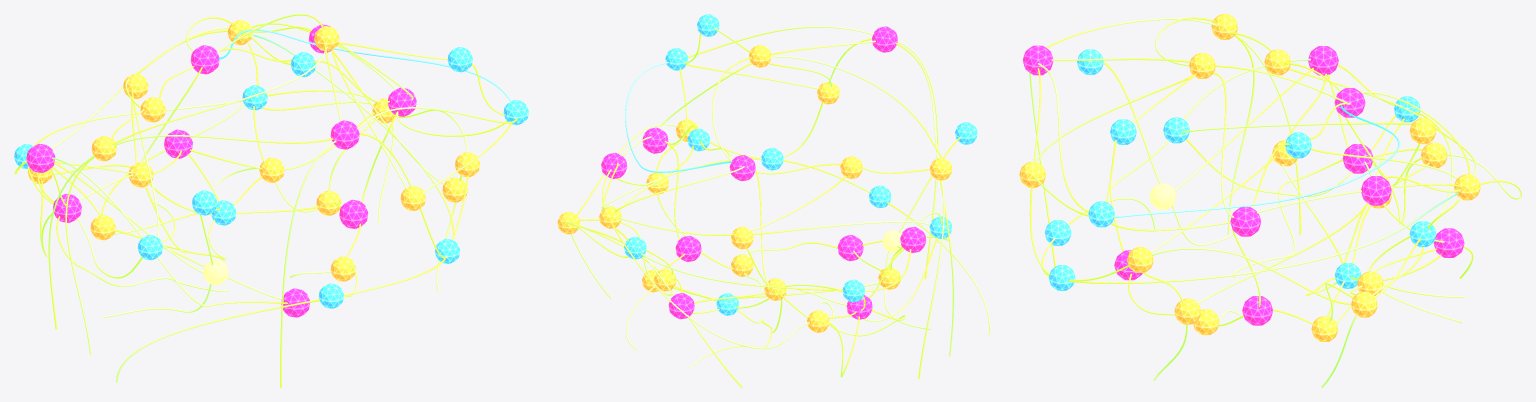
Rendered from neuro_web.fbx.
3 renders of one model, left to right at view 1: azimuth 30°, elevation 25°; view 2: azimuth 150°, elevation 25°; view 3: azimuth 270°, elevation 25°, orthographic. The views are drawn at different scales.
Parts seen in each view (by area): view 1: BézierCurve.035, BézierCurve.033, BézierCurve.032, BézierCurve.034, BézierCurve.063, BézierCurve.061, BézierCurve.051, Icosphere.046, Icosphere.047, Icosphere.013, Icosphere.045, Icosphere.044 (+29 smaller); view 2: BézierCurve.035, BézierCurve.033, BézierCurve.032, BézierCurve.034, BézierCurve.063, BézierCurve.051, BézierCurve.061, Icosphere.046, Icosphere.013, Icosphere.047, Icosphere.015, Icosphere.002 (+27 smaller); view 3: BézierCurve.035, BézierCurve.033, BézierCurve.032, BézierCurve.034, BézierCurve.063, BézierCurve.061, BézierCurve.051, Icosphere.016, Icosphere.015, Icosphere.046, Icosphere.047, Icosphere.044 (+32 smaller).
Boxes of the visible parts, box(x1,y1,x2,y2) form: BézierCurve.035: box(14, 89, 468, 382); BézierCurve.033: box(65, 17, 517, 354); BézierCurve.032: box(48, 14, 444, 329); BézierCurve.034: box(40, 30, 454, 387); BézierCurve.063: box(111, 42, 511, 191); BézierCurve.061: box(220, 23, 413, 103); BézierCurve.051: box(79, 67, 202, 237); Icosphere.046: box(339, 199, 368, 229); Icosphere.047: box(330, 120, 359, 149); Icosphere.013: box(26, 143, 55, 173); Icosphere.045: box(190, 45, 219, 74); Icosphere.044: box(164, 129, 192, 158); BézierCurve.035: box(566, 123, 990, 335); BézierCurve.033: box(614, 26, 954, 387); BézierCurve.032: box(603, 55, 944, 379); BézierCurve.034: box(601, 38, 938, 377); BézierCurve.063: box(670, 28, 929, 173); BézierCurve.051: box(694, 170, 930, 305); BézierCurve.061: box(602, 63, 752, 210); Icosphere.046: box(675, 235, 701, 262); Icosphere.013: box(900, 226, 926, 252); Icosphere.047: box(872, 26, 897, 52); Icosphere.015: box(642, 127, 668, 153); Icosphere.002: box(837, 235, 863, 261); BézierCurve.035: box(1041, 58, 1453, 304); BézierCurve.033: box(1037, 18, 1473, 278); BézierCurve.032: box(1155, 17, 1476, 303); BézierCurve.034: box(1029, 68, 1521, 283); BézierCurve.063: box(1034, 32, 1271, 231); BézierCurve.061: box(1212, 72, 1462, 217); BézierCurve.051: box(1180, 117, 1420, 230); Icosphere.016: box(1361, 176, 1391, 205); Icosphere.015: box(1230, 207, 1261, 236); Icosphere.046: box(1242, 296, 1273, 325); Icosphere.047: box(1022, 45, 1053, 75); Icosphere.044: box(1433, 228, 1464, 257).
Size of the model in its own units: 8321 by 5716 by 8828.
